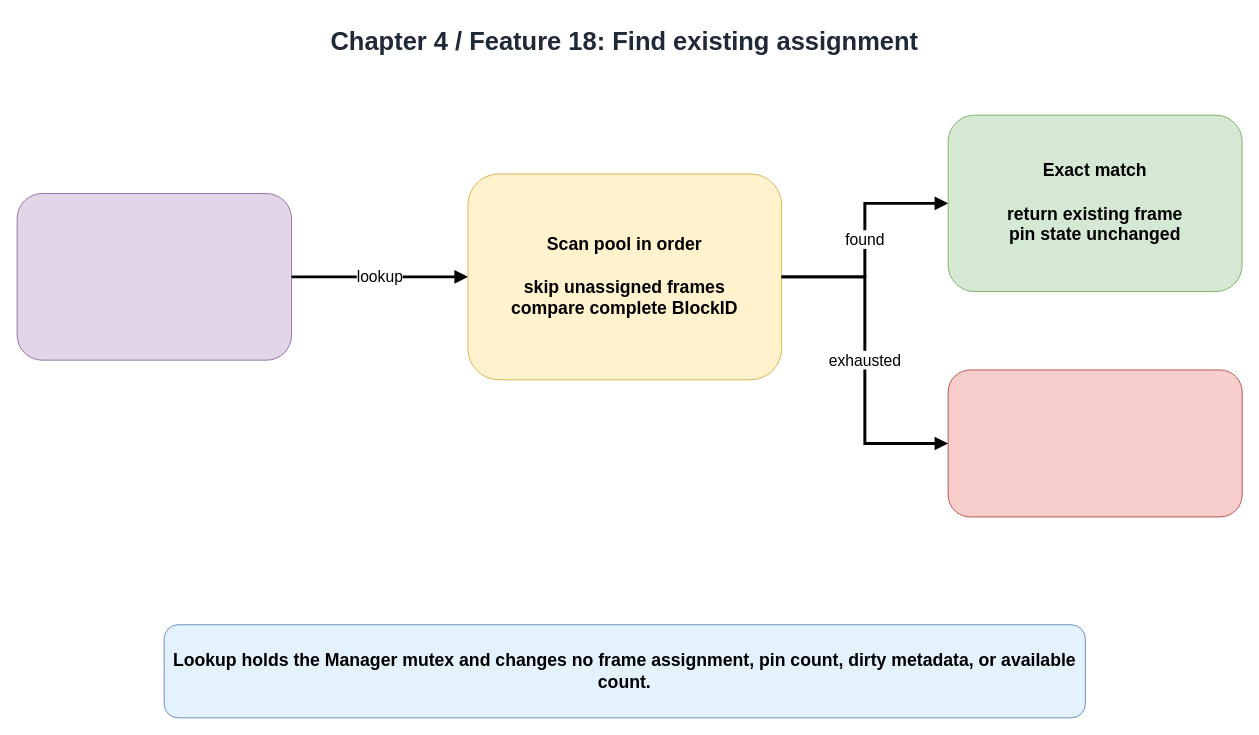
Some shapes in this 1259 by 735 pixel diagram are drawn without their labels. The centre of each missing label's shape, as x and y in pixels:
"No match return nil, false" belongs at (x=1094, y=443).
"Target BlockID file name + block number" belongs at (x=154, y=276).
